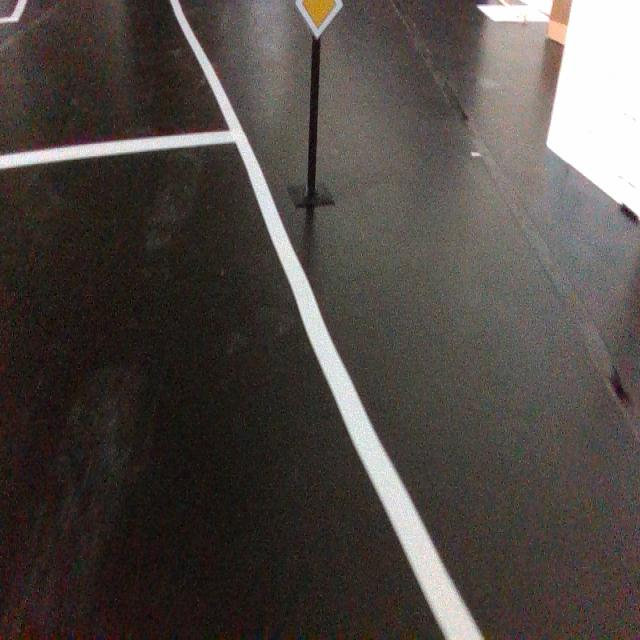priority-sign: (294, 0, 344, 41)
